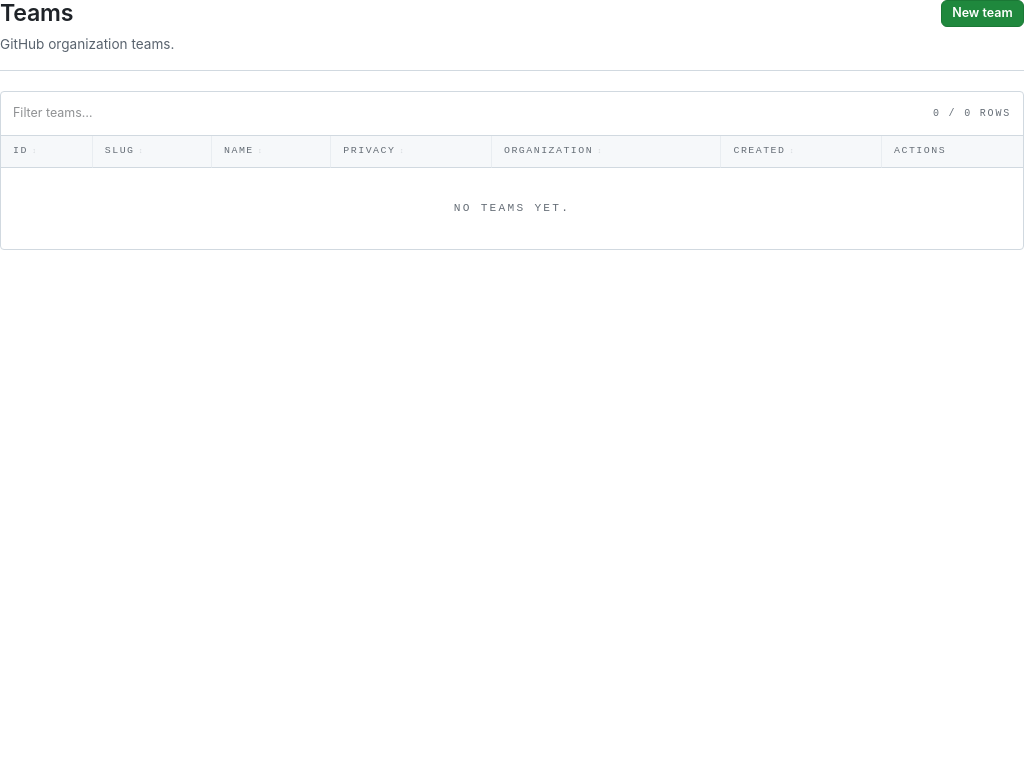
Test: TeamsPage › keeps the dialog open and renders an API validation failure
Expected: the text "No teams yet." is shown, [1, 168, 1023, 249]
Click the button "New team" at {"x": 982, "y": 14}, box [941, 0, 1023, 27]
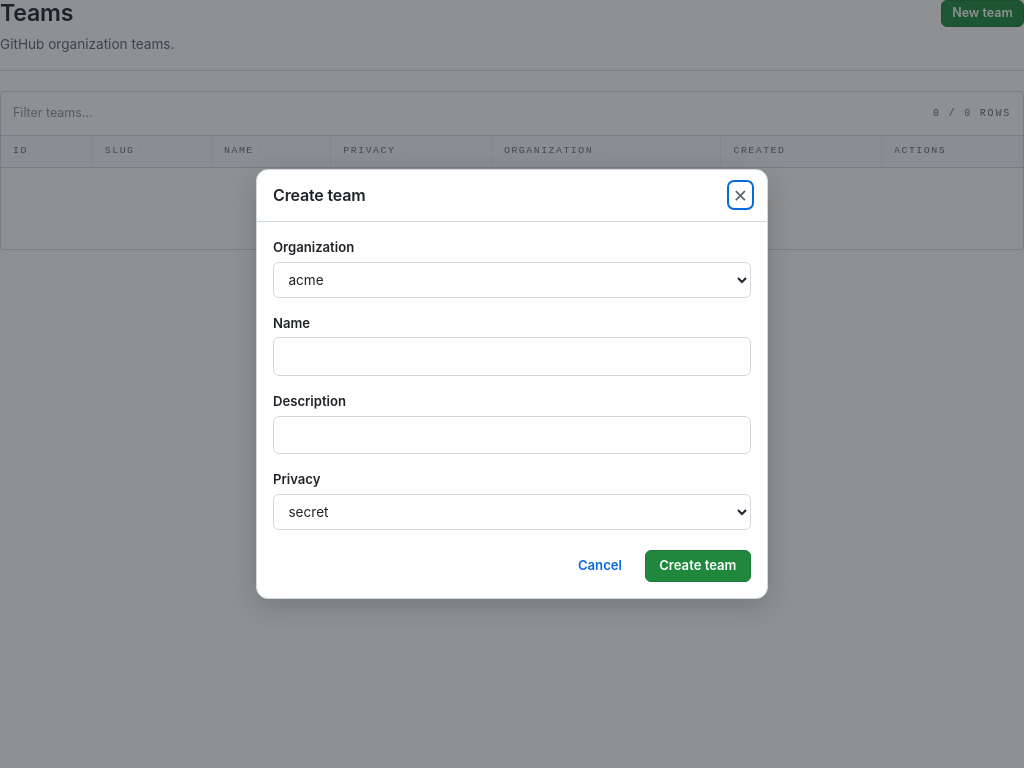
Type "Platform" into the field labelled "Name" at {"x": 512, "y": 357}, box [273, 337, 751, 376]
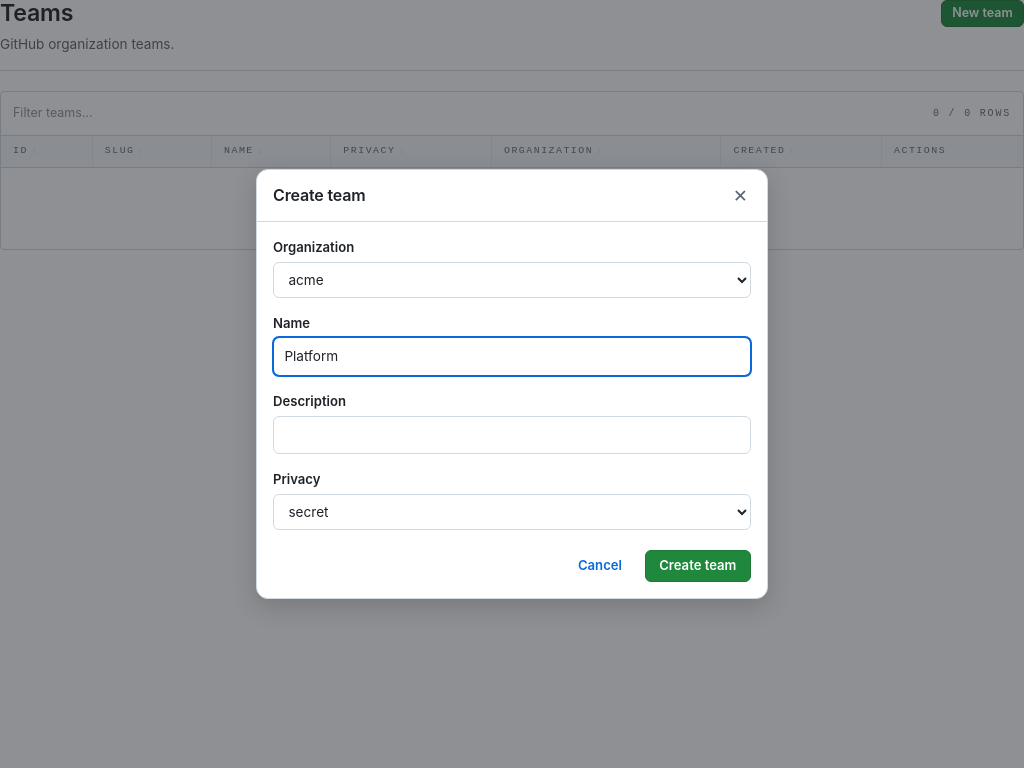
Click the button "Create team" at {"x": 698, "y": 566}, box [645, 550, 751, 582]
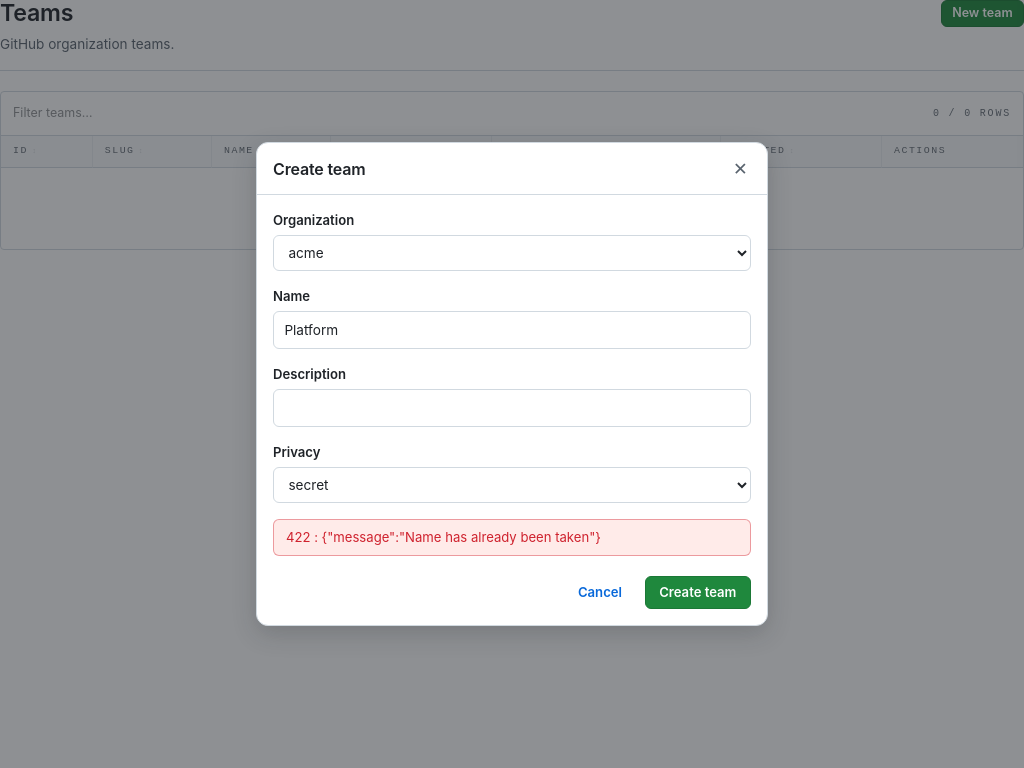
Expected: the dialog "Create team" is shown, [256, 142, 768, 626]
Expected: the text "422 : {\"message\":\"Name has already been taken\"}" is shown, [273, 519, 751, 556]
